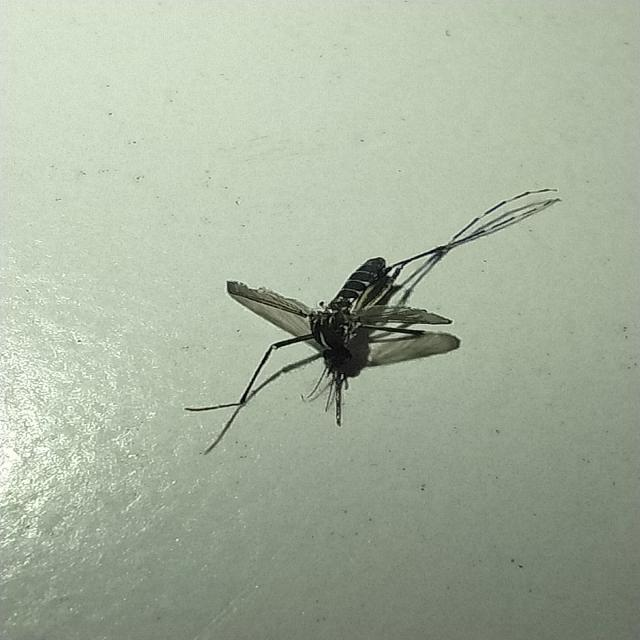albopictus: (183, 155, 559, 457)
